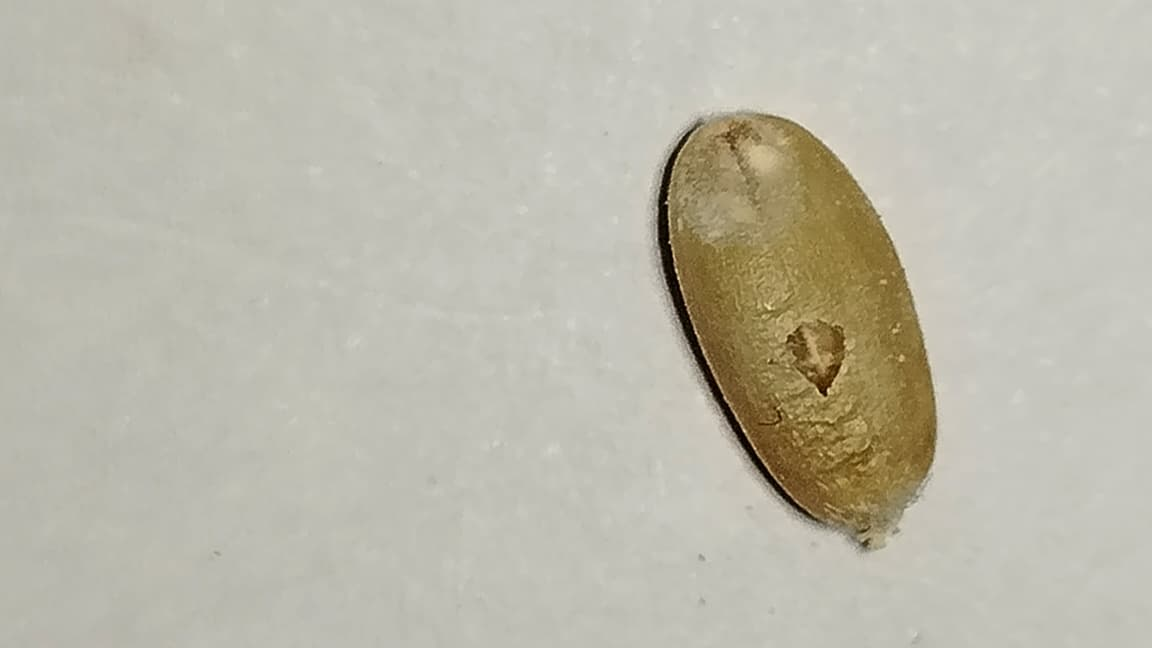damage: (667, 115, 935, 528)
insectdamage: (666, 107, 803, 245), (777, 299, 875, 407)
